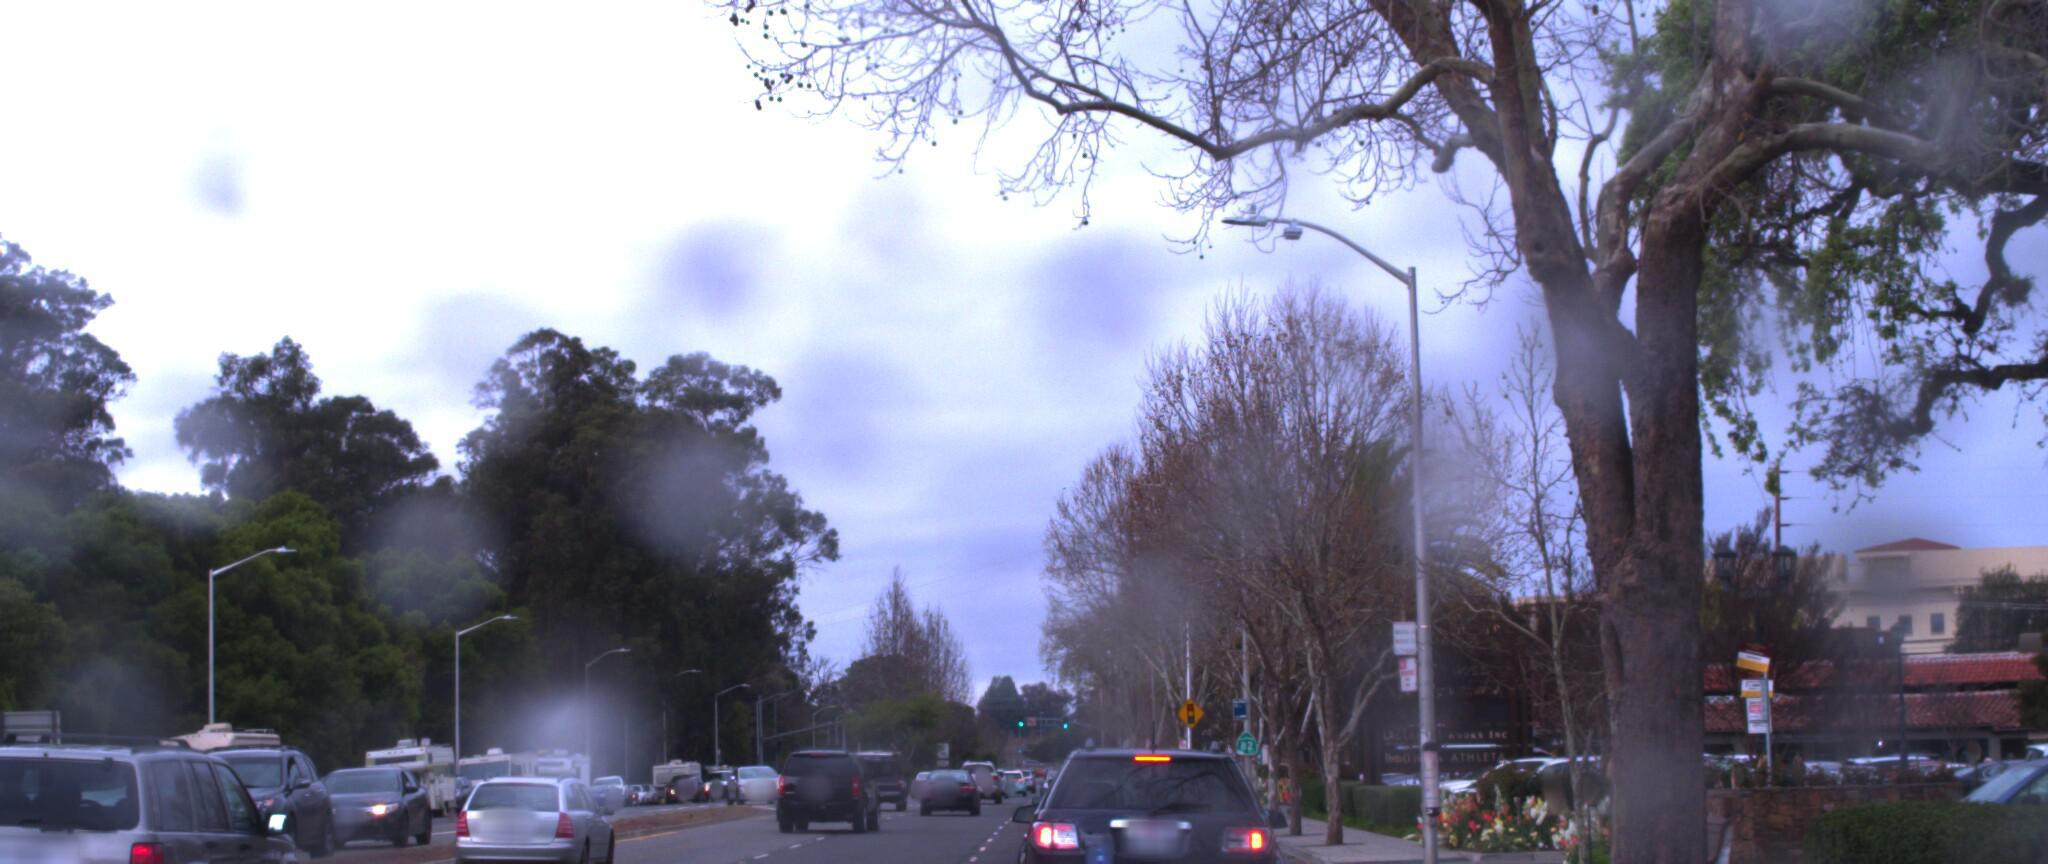car: (0, 706, 329, 864), (1010, 727, 1292, 864), (0, 720, 221, 864), (1831, 724, 2048, 864), (144, 720, 355, 854), (447, 752, 624, 864), (296, 741, 451, 831), (776, 730, 889, 818), (2000, 720, 2048, 864)
